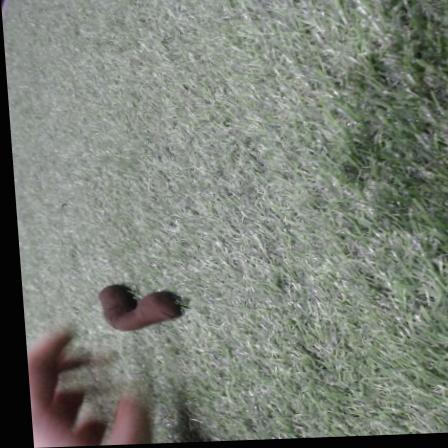dog-poop: (86, 281, 173, 339)
